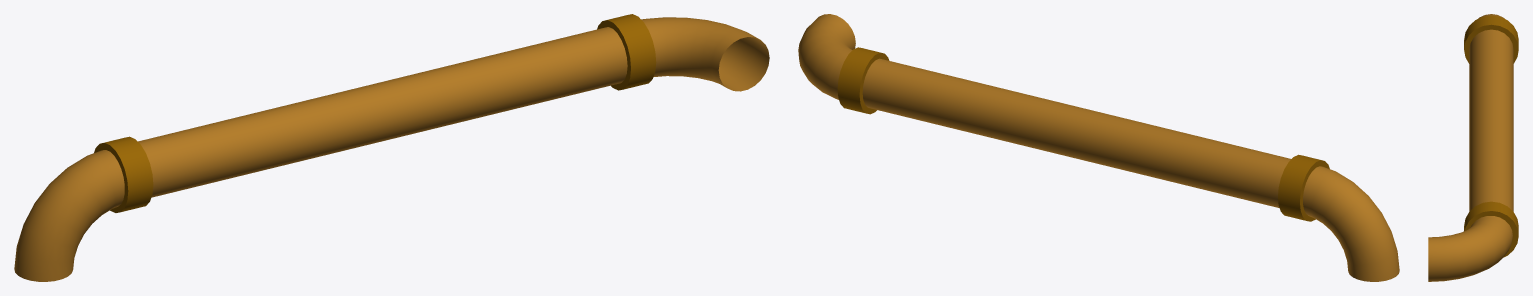
The model's file is Pipes1.fbx.
The picture shows the model from 3 angles, left to right: view 1: azimuth 30°, elevation 25°; view 2: azimuth 150°, elevation 25°; view 3: azimuth 270°, elevation 25°; orthographic projection. The views are drawn at different scales.
Visible parts, largest first — view 1: pTorus3; view 2: pTorus3; view 3: pTorus3.
Part boxes in pixels (<box>): pTorus3: <box>14,14,769,281</box>; pTorus3: <box>798,14,1399,281</box>; pTorus3: <box>1428,14,1518,281</box>.
Bounding box in the file's own units: 557 × 81.06 × 81.22.
